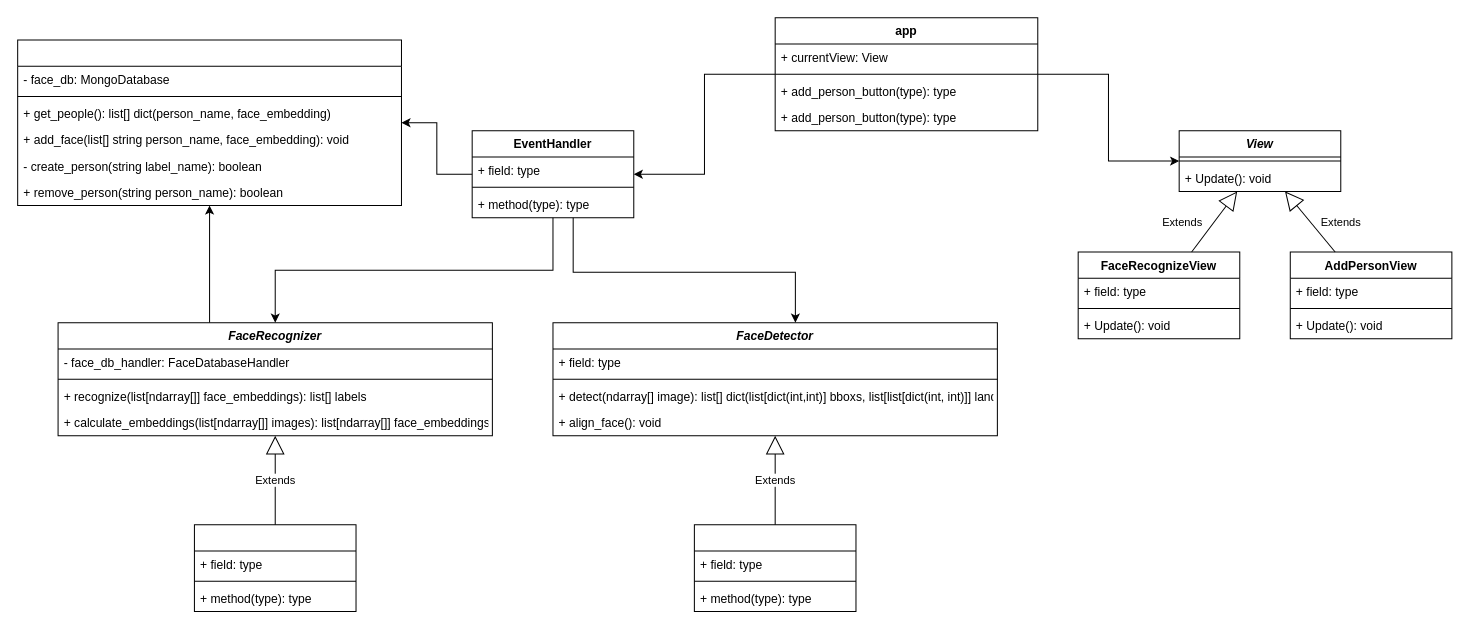
The diagram is 1470 pixels wide and 632 high, and some of its shapes have lost their labels. Each missing label, with the box of its shape:
FaceDatabaseHandler: (17, 39, 401, 206)
InsightFace: (193, 524, 356, 612)
RetinaFace: (693, 524, 856, 612)
